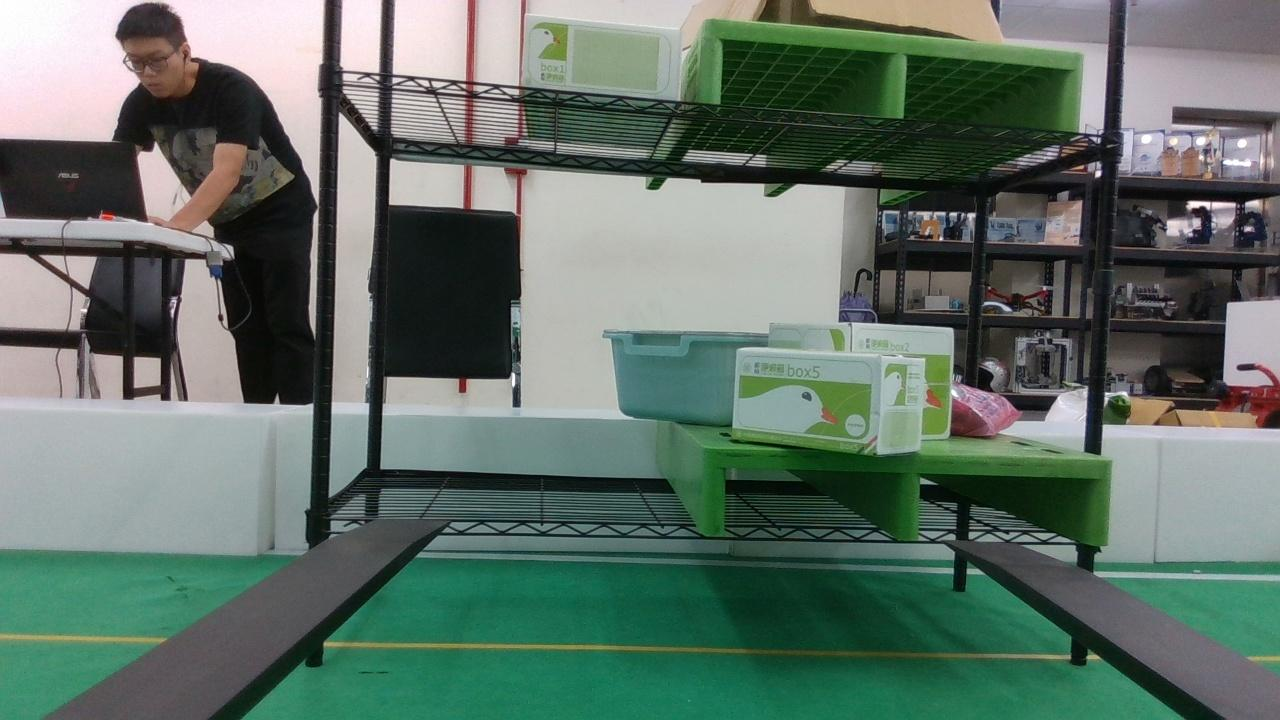Pallet: (699, 17, 1084, 135), (699, 445, 1113, 545)
